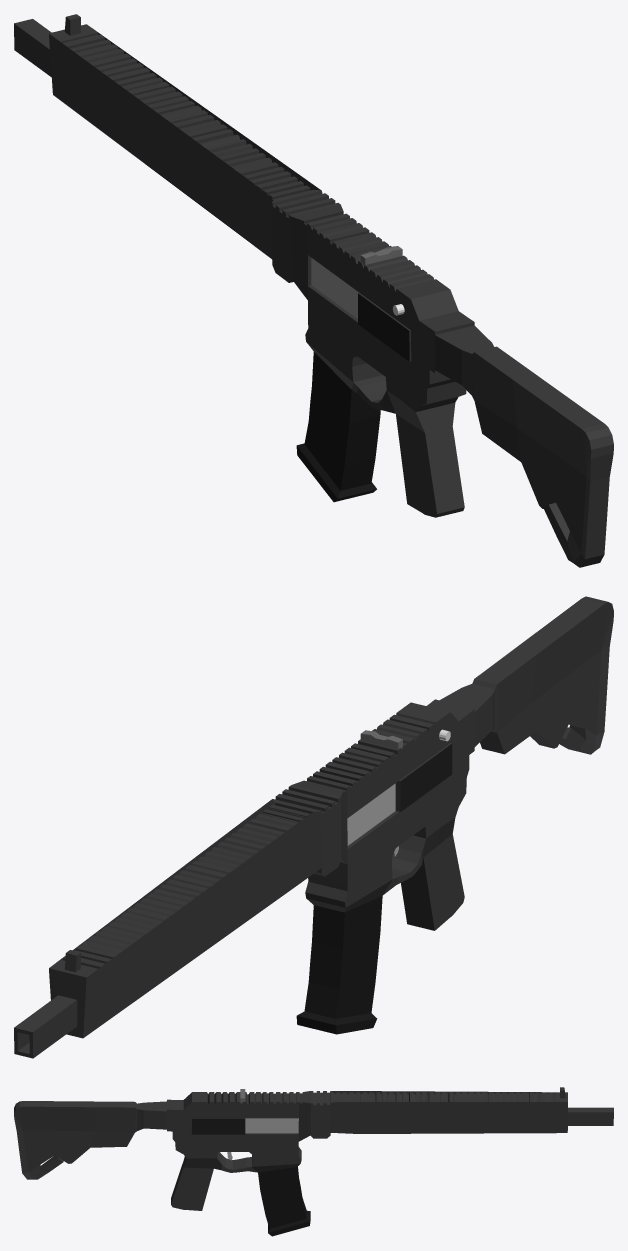
3 views of the same model, one above another, from view 1: azimuth 30°, elevation 25°; view 2: azimuth 150°, elevation 25°; view 3: azimuth 270°, elevation 25° (orthographic). The views are drawn at different scales.
Visible parts, largest first — view 1: AR-15, Magazine; view 2: AR-15, Magazine; view 3: AR-15, Magazine.
Part boxes in pixels (left/top/right/bottom): AR-15: left=14, top=14, right=613, bottom=567; Magazine: left=296, top=351, right=380, bottom=502; AR-15: left=14, top=596, right=613, bottom=1058; Magazine: left=296, top=896, right=382, bottom=1034; AR-15: left=14, top=1087, right=613, bottom=1210; Magazine: left=258, top=1166, right=310, bottom=1236.
Bounding box in the file's own units: 54.95 × 282 × 1076.
1 material, 1 textured.
